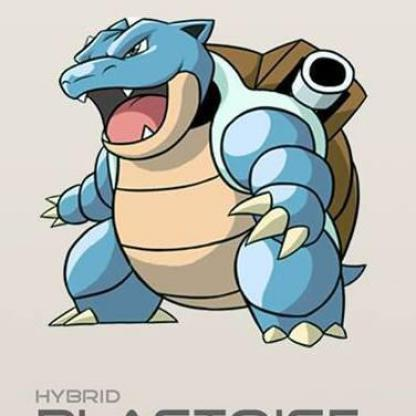Blastoise: (1, 1, 416, 400)
